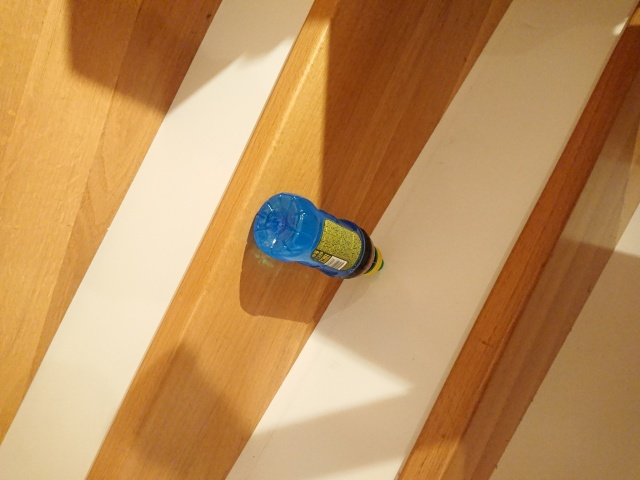Vindi Iso Sport Forest Strawberries 500mL: (250, 191, 384, 281)
